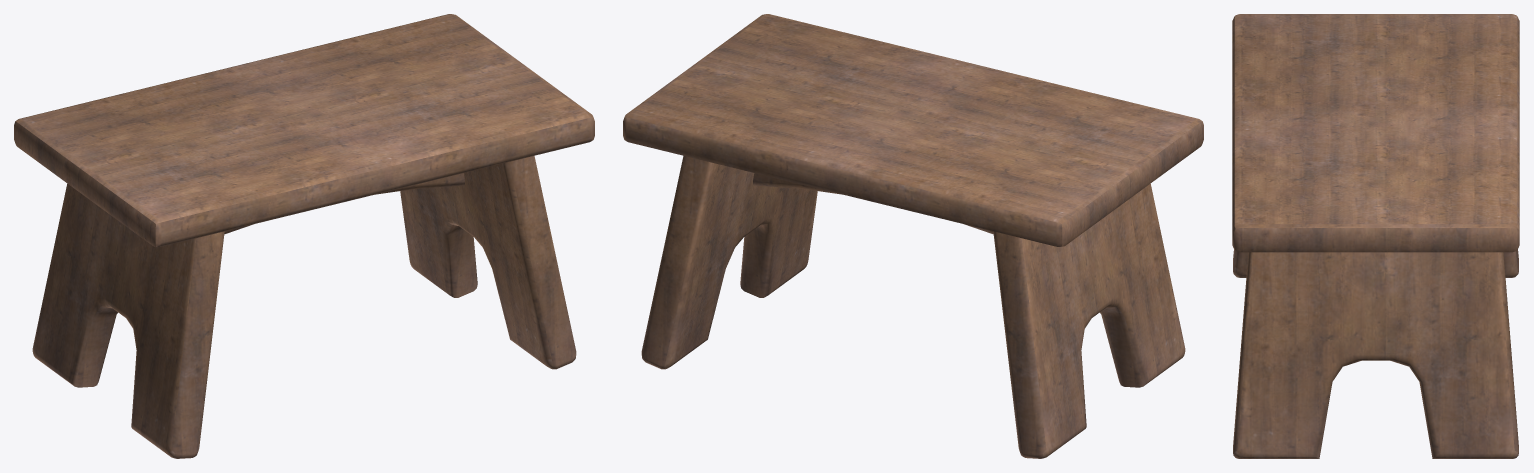
The model's file is simple_short_stool.glb.
The picture shows the model from 3 angles, left to right: view 1: azimuth 30°, elevation 25°; view 2: azimuth 150°, elevation 25°; view 3: azimuth 270°, elevation 25°; orthographic projection.
Parts seen in each view (by area): view 1: Object_2; view 2: Object_2; view 3: Object_2.
Part boxes in pixels (x1,y1,x2,y2): Object_2: [14, 14, 594, 458]; Object_2: [623, 14, 1203, 458]; Object_2: [1232, 14, 1519, 458].
Size of the model in its own units: 3.56 by 1.89 by 2.
1 material, 1 textured.
